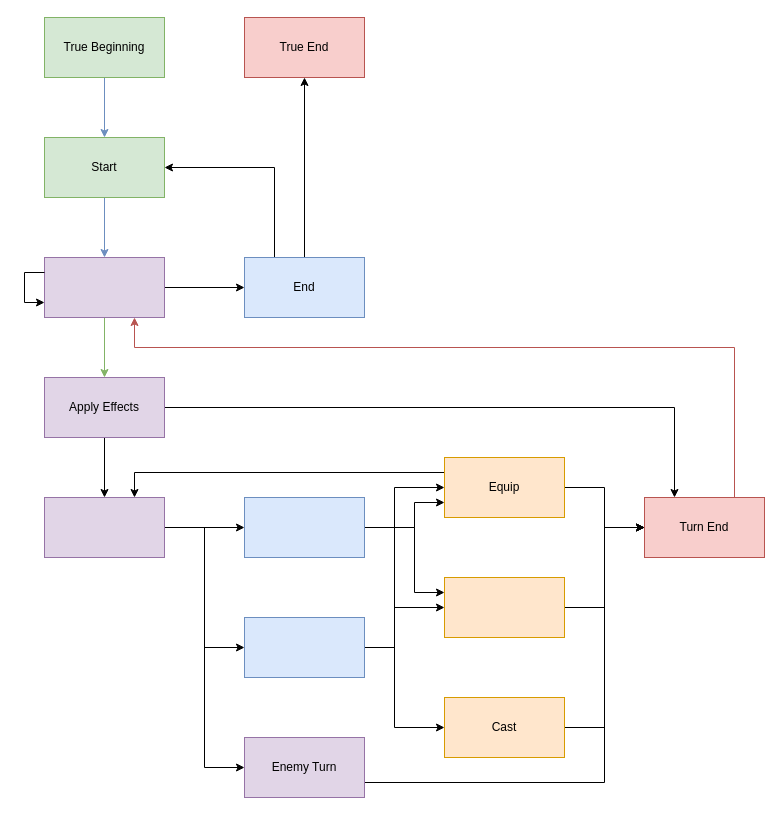
Image size: 782x815. Some labels were removed from this diagram. The centre of each missing label's shape, as x and y in pixels:
Attack: (x=504, y=607)
Magical Turn: (x=304, y=647)
Regular Turn: (x=304, y=527)
Transition: (x=104, y=287)
Turn Bifurcation: (x=104, y=527)
